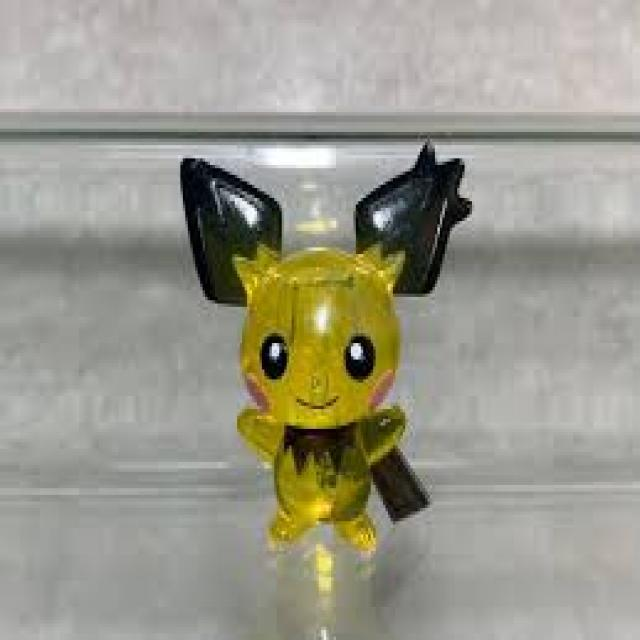pichu: (184, 164, 475, 536)
